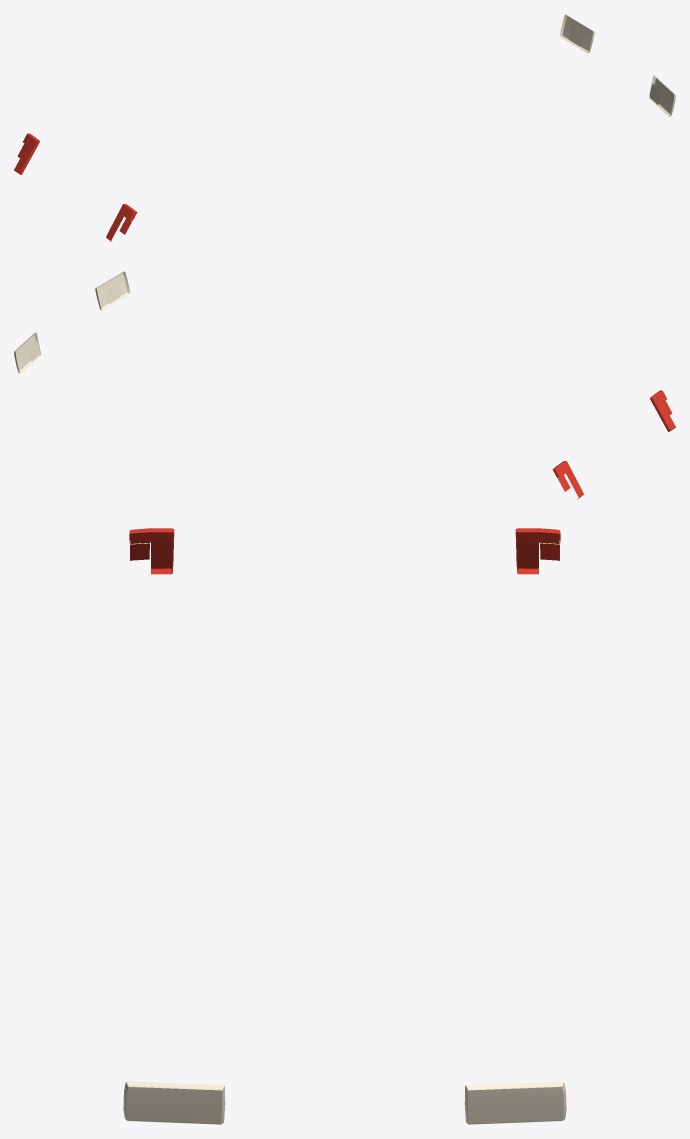
Rendered from vaz2104_lights.obj.
3 views of the same model, one above another, from view 1: azimuth 30°, elevation 25°; view 2: azimuth 150°, elevation 25°; view 3: azimuth 270°, elevation 25° (orthographic). The views are drawn at different scales.
Visible parts, largest first — view 1: vaz2104_Headlight, vaz2104_Taillight; view 2: vaz2104_Headlight, vaz2104_Taillight; view 3: vaz2104_Headlight, vaz2104_Taillight.
Part boxes in pixels (<box>): vaz2104_Headlight: <box>559,14,675,117</box>; vaz2104_Taillight: <box>14,133,137,242</box>; vaz2104_Headlight: <box>14,271,130,374</box>; vaz2104_Taillight: <box>552,390,675,499</box>; vaz2104_Headlight: <box>123,1081,566,1124</box>; vaz2104_Taillight: <box>129,528,560,574</box>.
Size of the model in its own units: 4.04 by 0.2409 by 1.38.
2 materials, 2 textured.
